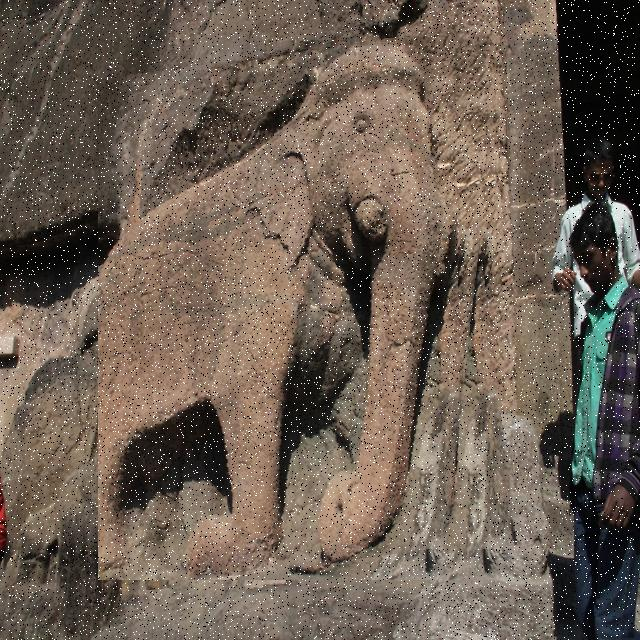elephant: (98, 41, 502, 580)
